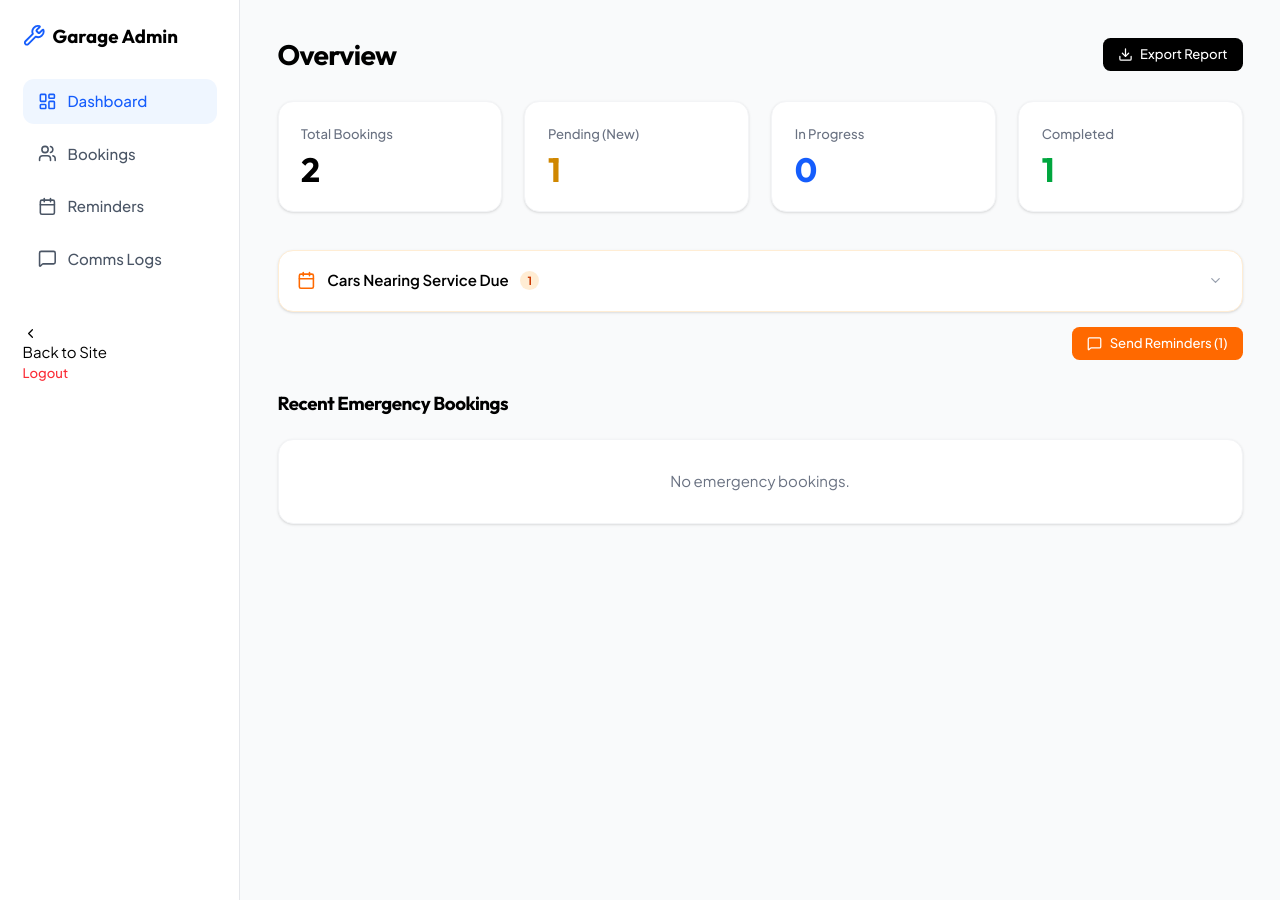
Scenario: Admin Bookings Search › search input renders in bookings tab
Check: the text "Cars Nearing Service Due" is shown, box 327,269 -> 509,292
Click the button "Bookings": (120, 154) 22,131 -> 216,176
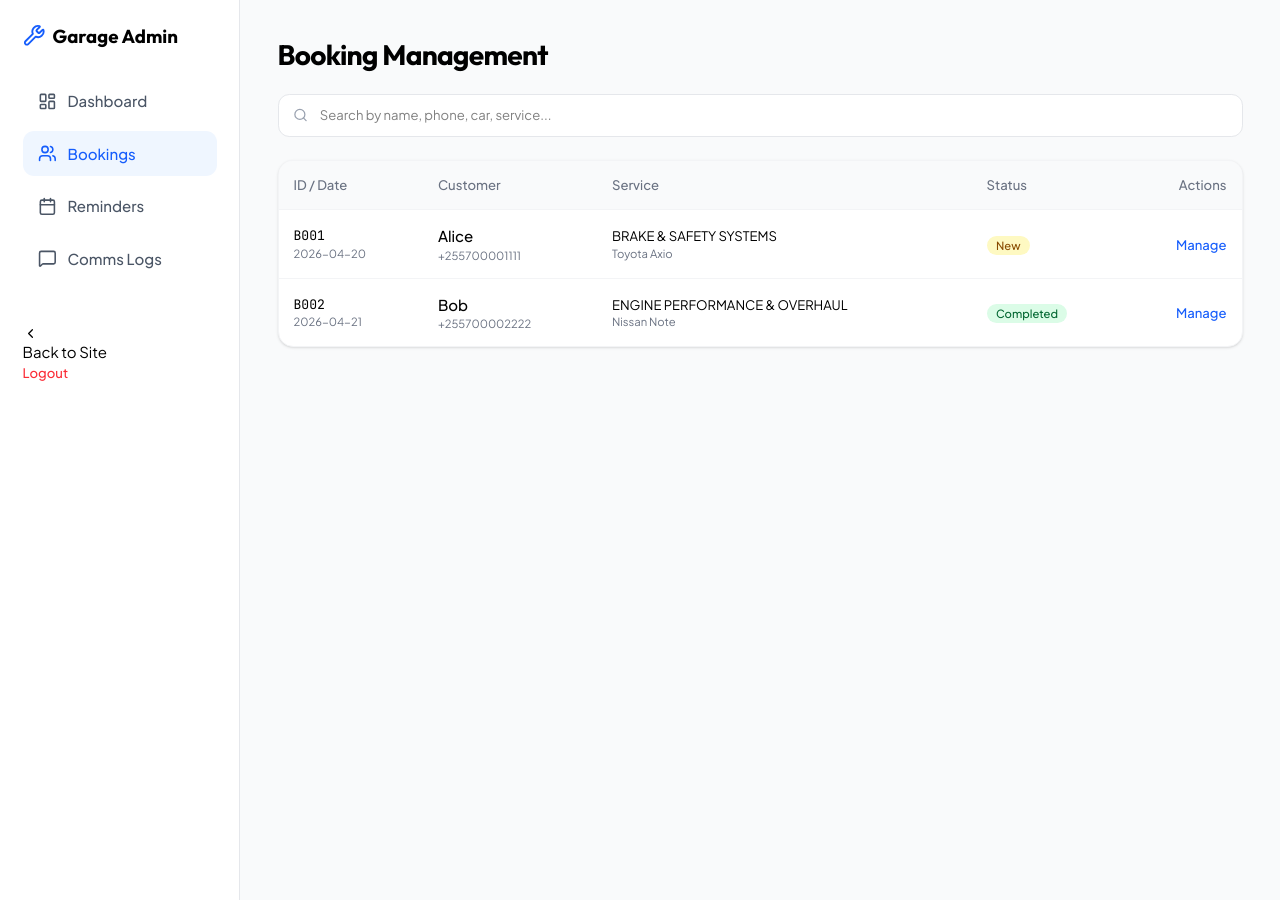
Check: the field with placeholder "Search by name, phone, car, service..." is shown, box 278,94 -> 1242,137
